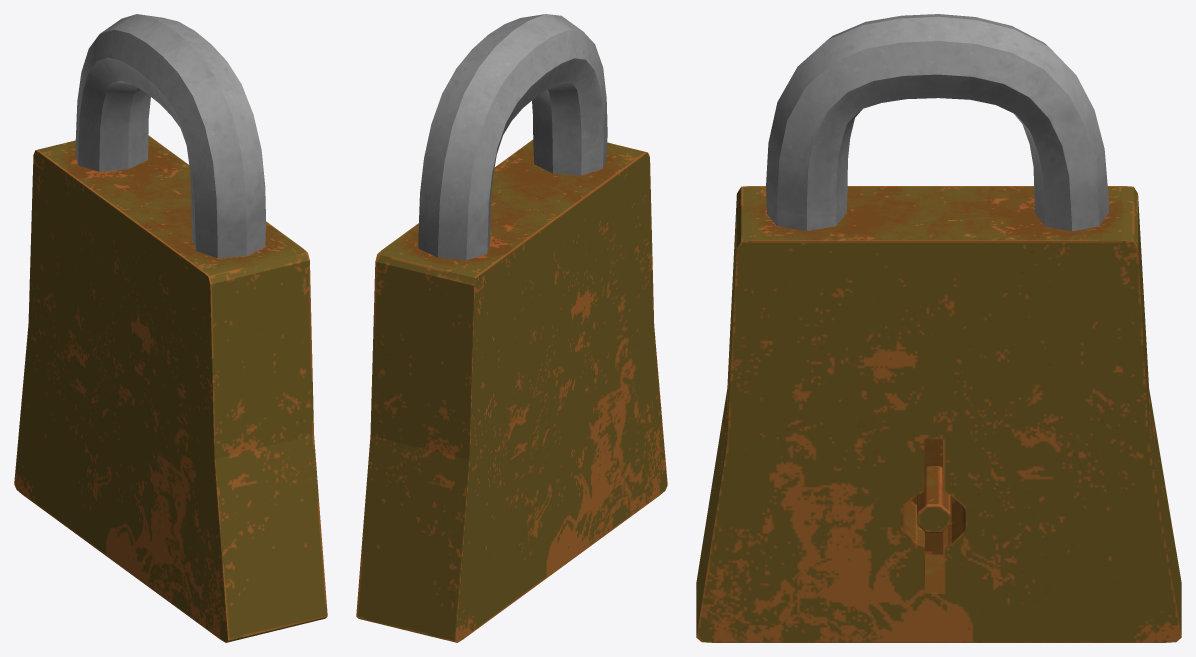
The model's file is Cadeado_2.fbx.
The picture shows the model from 3 angles, left to right: view 1: azimuth 30°, elevation 25°; view 2: azimuth 150°, elevation 25°; view 3: azimuth 270°, elevation 25°; orthographic projection. The views are drawn at different scales.
Visible parts, largest first — view 1: Cadeado_2, Cadeado_Ferro_2; view 2: Cadeado_2, Cadeado_Ferro_2; view 3: Cadeado_2, Cadeado_Ferro_2.
Boxes of the visible parts, <box> form: Cadeado_2: <box>14,135,327,642</box>; Cadeado_Ferro_2: <box>75,14,266,258</box>; Cadeado_2: <box>356,139,667,642</box>; Cadeado_Ferro_2: <box>418,14,607,260</box>; Cadeado_2: <box>696,186,1181,642</box>; Cadeado_Ferro_2: <box>766,14,1108,231</box>.
Size of the model in its own units: 1.86 by 9.45 by 6.94.
